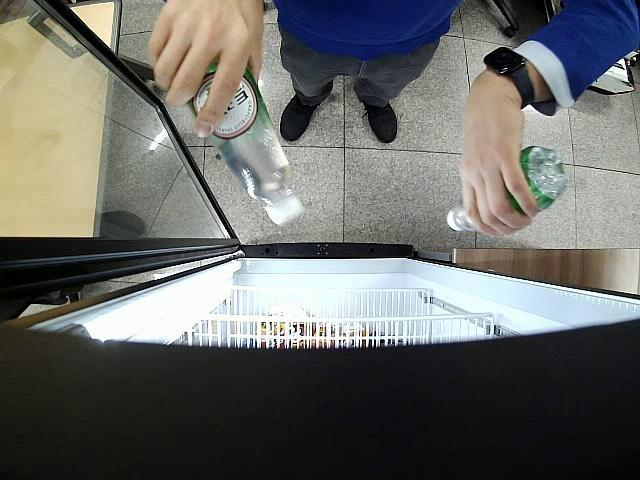18_trevi: (186, 61, 306, 226), (446, 146, 566, 232)
